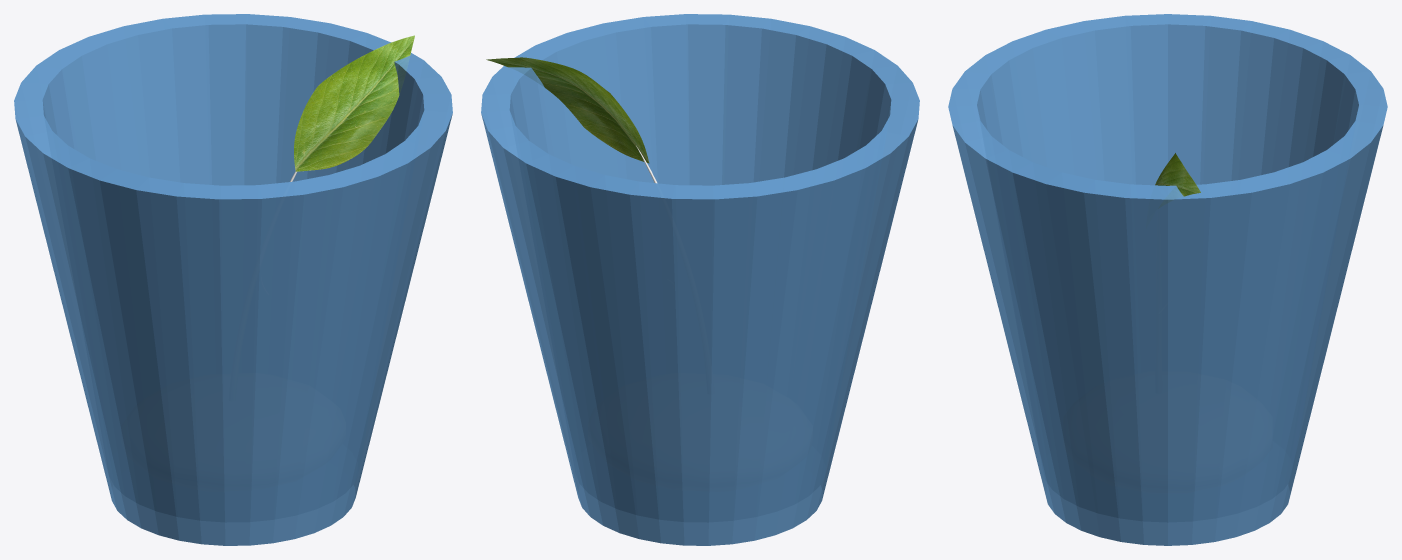
File: planta1.glb
3 renders of one model, left to right at view 1: azimuth 30°, elevation 25°; view 2: azimuth 150°, elevation 25°; view 3: azimuth 270°, elevation 25°, orthographic.
Parts seen in each view (by area): view 1: Cilindro, new_plant_1:planarTrimmedSurface1; view 2: Cilindro, new_plant_1:planarTrimmedSurface1; view 3: Cilindro, new_plant_1:planarTrimmedSurface1.
Part boxes in pixels (<box>): Cilindro: <box>14,14,452,545</box>; new_plant_1:planarTrimmedSurface1: <box>294,35,414,171</box>; Cilindro: <box>481,14,919,545</box>; new_plant_1:planarTrimmedSurface1: <box>486,57,649,163</box>; Cilindro: <box>948,14,1387,545</box>; new_plant_1:planarTrimmedSurface1: <box>1155,153,1200,204</box>.
Size of the model in its own units: 2.28 by 2.26 by 2.23.
4 materials, 1 textured.
